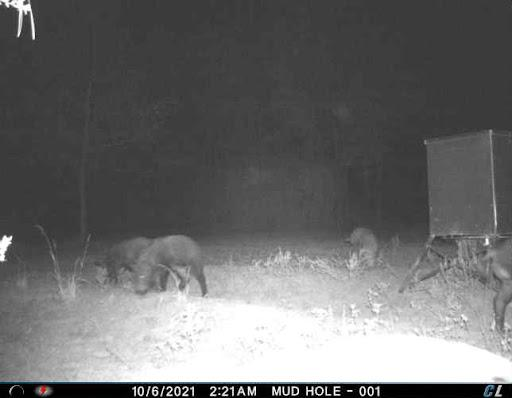Hog: (127, 232, 216, 298), (96, 234, 167, 290), (480, 230, 512, 346), (341, 225, 387, 281)
